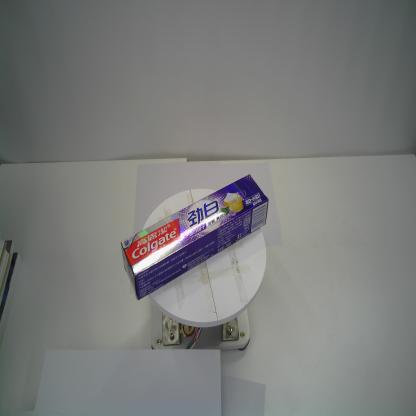Personal Hygiene: (120, 173, 269, 299)
